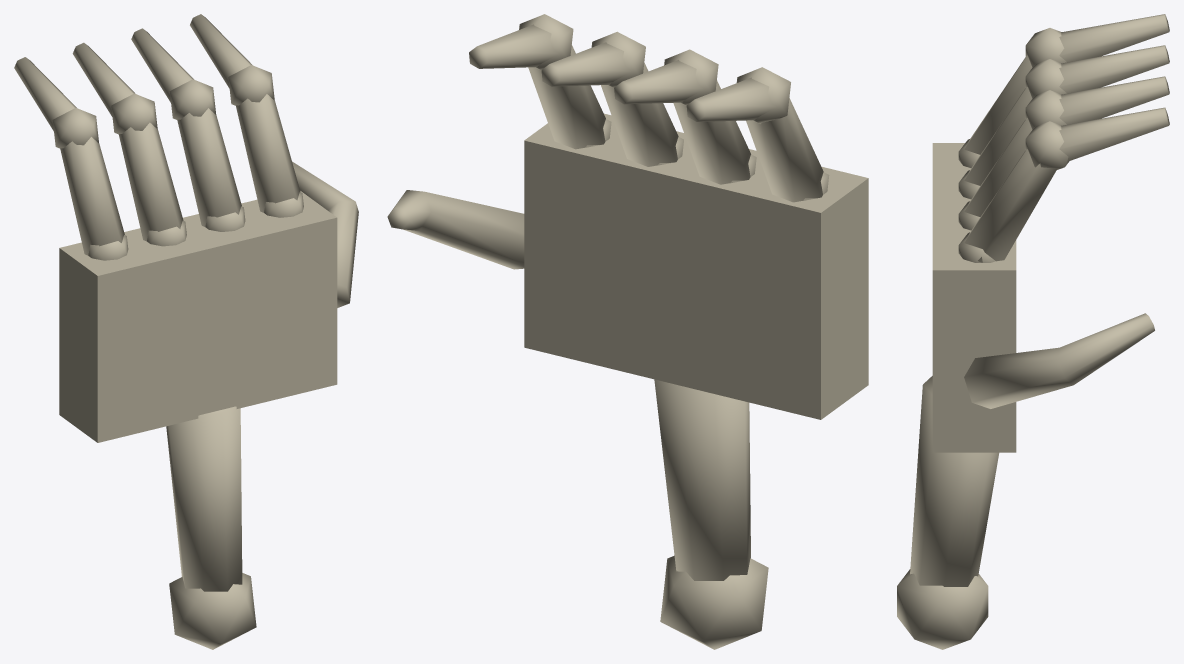
File: crypt_hand.glb
The picture shows the model from 3 angles, left to right: view 1: azimuth 30°, elevation 25°; view 2: azimuth 150°, elevation 25°; view 3: azimuth 270°, elevation 25°; orthographic projection. The views are drawn at different scales.
Parts seen in each view (by area): view 1: crypt_hand; view 2: crypt_hand; view 3: crypt_hand.
Part boxes in pixels (x1,y1,x2,y2): crypt_hand: (14,14,358,649); crypt_hand: (387,14,868,649); crypt_hand: (897,14,1169,649).
Size of the model in its own units: 1.33 by 2.13 by 0.8955.
